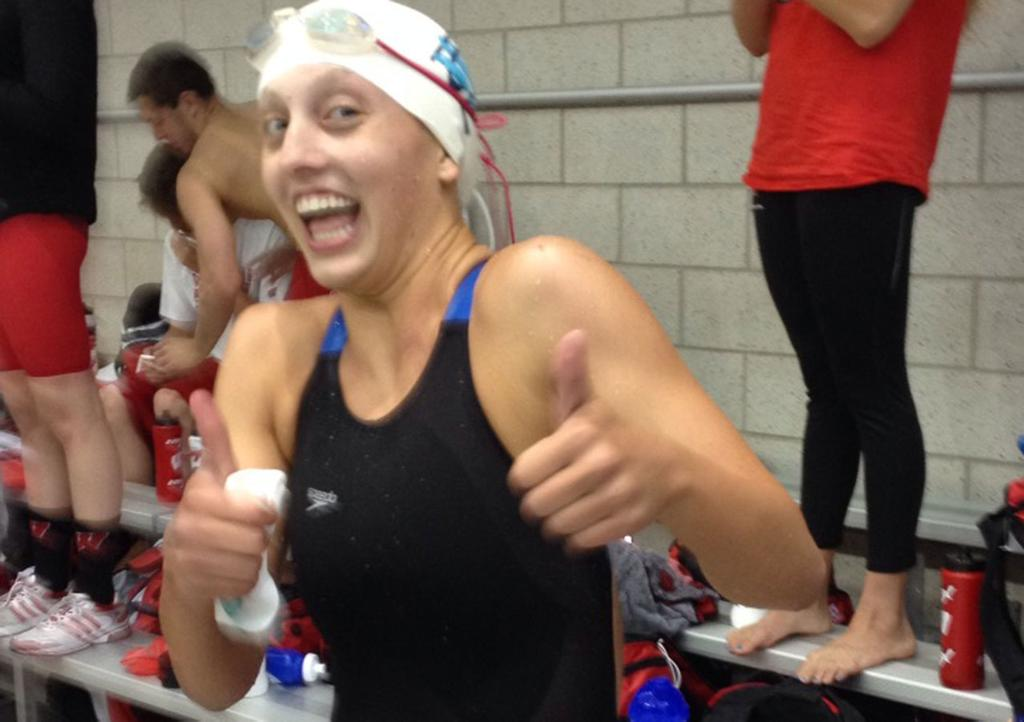face: (262, 82, 434, 286), (134, 88, 192, 154)
